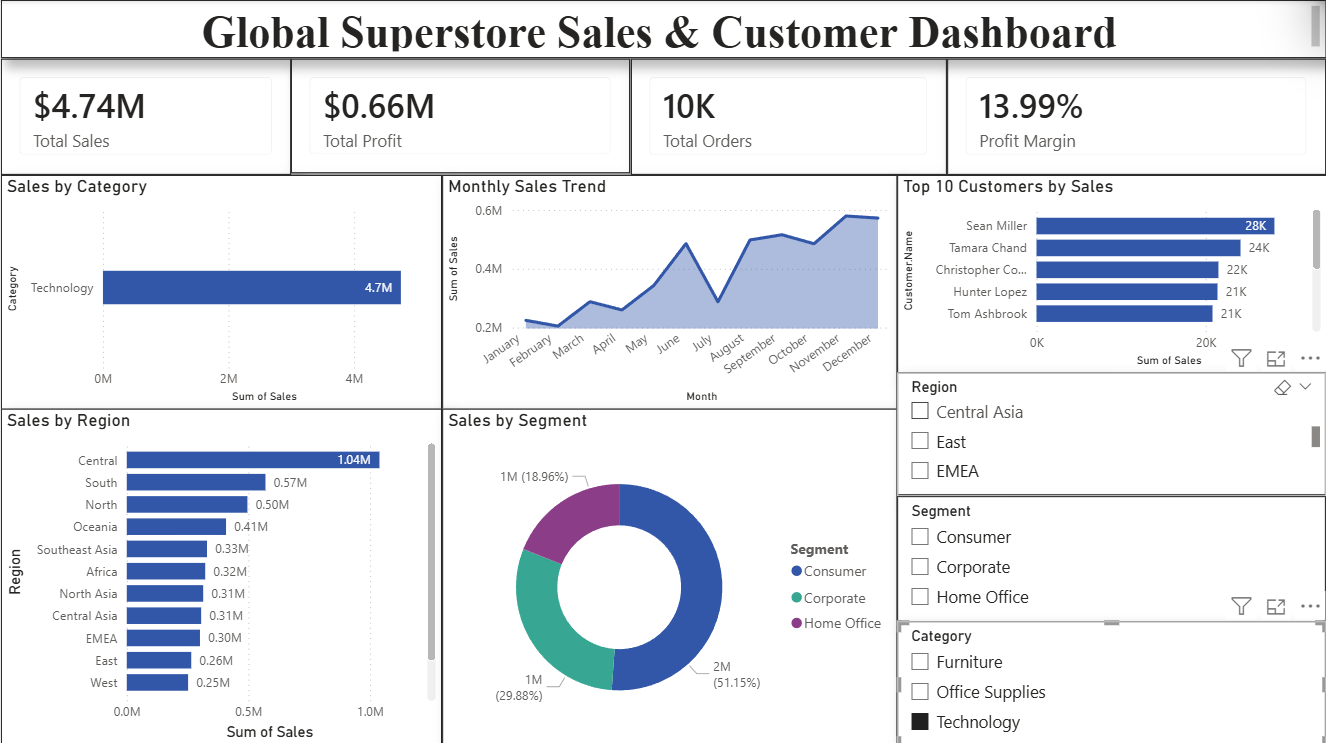

The dashboard page shown, as its layout file describes it:
{"tool":"powerbi","page":{"name":"Page 1","canvas":[1280,720],"ordinal":0},"visuals":[{"type":"cardVisual","fields":{"Data":["Table1.Total Sales"]},"box":[0,56.6,280.3,111.9],"z":0},{"type":"cardVisual","fields":{"Data":["Table1.Total Profit"]},"box":[280.3,56.6,327.5,110.5],"z":1000},{"type":"cardVisual","fields":{"Data":["Table1.Total Orders"]},"box":[607.8,56.6,304.6,111.9],"z":2000},{"type":"cardVisual","fields":{"Data":["Table1.Profit Margin"]},"box":[913.7,56.6,365.2,111.9],"z":3000},{"type":"clusteredBarChart","title":"Sales by Category","fields":{"Category":["Table1.Category"],"Y":["Sum(Table1.Sales)"]},"box":[0,168.5,425.9,226.4],"z":4000},{"type":"lineChart","title":"Monthly Sales Trend","fields":{"Y":["Sum(Table1.Sales)"],"Category":["Table1.Order.Date.Variation.Date Hierarchy.Month"]},"box":[425.9,168.5,439.3,226.4],"z":5000},{"type":"clusteredBarChart","title":"Sales by Region","fields":{"Category":["Table1.Region"],"Y":["Sum(Table1.Sales)"]},"box":[0,394.9,425.9,326.1],"z":6000},{"type":"donutChart","title":"Sales by Segment","fields":{"Category":["Table1.Segment"],"Y":["Sum(Table1.Sales)"]},"box":[425.9,394.9,439.3,326.1],"z":7000},{"type":"clusteredBarChart","title":"Top 10 Customers by Sales","fields":{"Category":["Table1.Customer.Name"],"Y":["Sum(Table1.Sales)"]},"box":[865.2,168.5,415.1,191.4],"z":8000},{"type":"slicer","fields":{"Values":["Table1.Region"]},"box":[865.2,359.8,413.7,118.6],"z":9000},{"type":"slicer","fields":{"Values":["Table1.Segment"]},"box":[865.2,478.4,413.7,121.3],"z":10000},{"type":"slicer","fields":{"Values":["Table1.Category"]},"box":[865.2,599.7,413.7,121.3],"z":11000},{"type":"textbox","box":[0,0,1278.8,55.7],"z":12000}]}

Visuals, with their boxes in screenshot pixels (x1, y1, x2, y2), scaled from the page's 1280x720 canvas onto the 1326x743 screenshot:
cardVisual - Table1.Total Sales: [0,58,290,174]
cardVisual - Table1.Total Profit: [290,58,630,172]
cardVisual - Table1.Total Orders: [630,58,945,174]
cardVisual - Table1.Profit Margin: [947,58,1325,174]
"Sales by Category" clusteredBarChart: [0,174,441,408]
"Monthly Sales Trend" lineChart: [441,174,896,408]
"Sales by Region" clusteredBarChart: [0,408,441,742]
"Sales by Segment" donutChart: [441,408,896,742]
"Top 10 Customers by Sales" clusteredBarChart: [896,174,1325,371]
slicer - Table1.Region: [896,371,1325,494]
slicer - Table1.Segment: [896,494,1325,619]
slicer - Table1.Category: [896,619,1325,742]
textbox: [0,0,1325,57]
